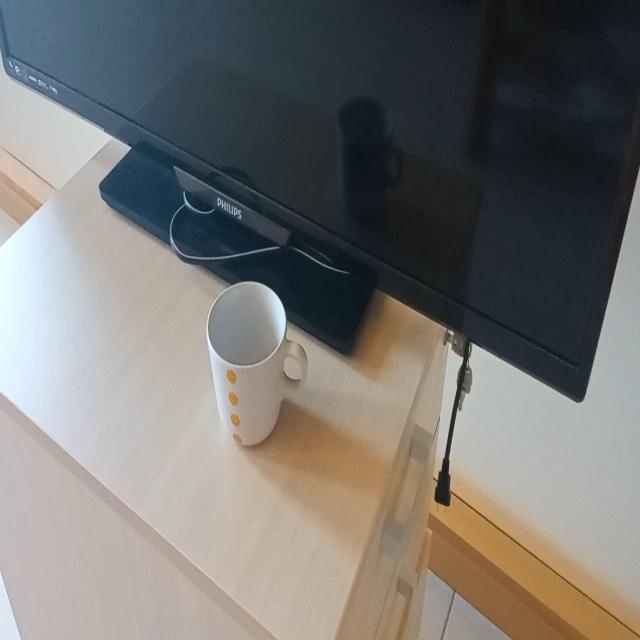cup: (207, 282, 307, 448)
